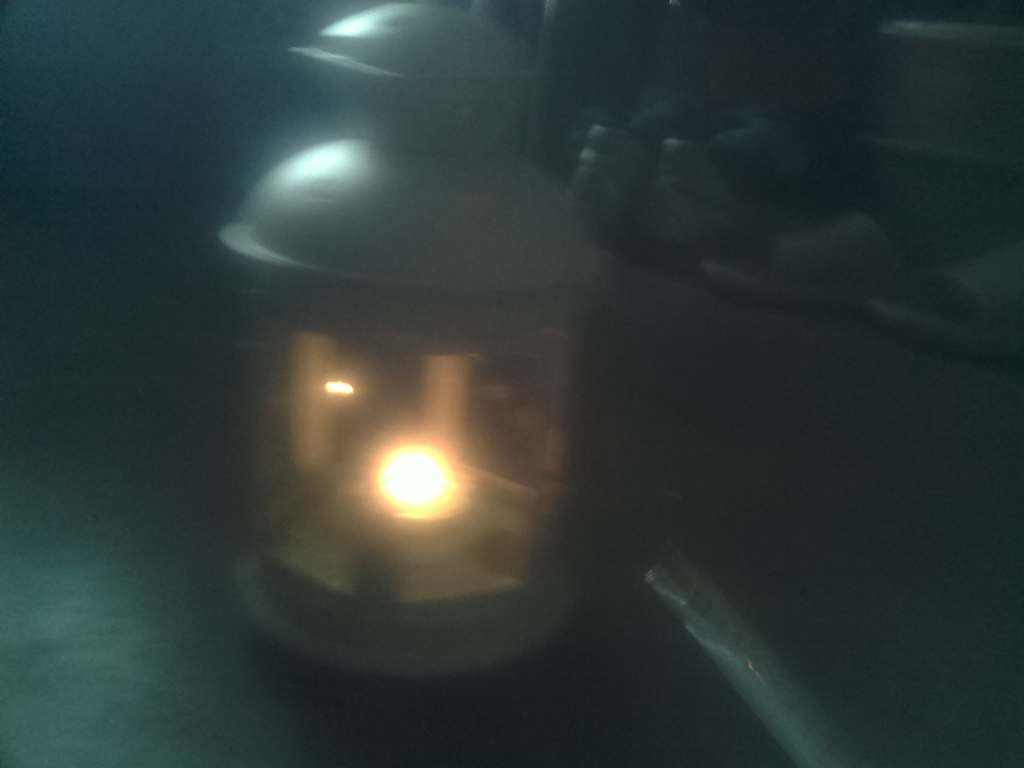fire: (355, 427, 486, 528)
